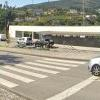crosswalks: (0, 58, 84, 91)
